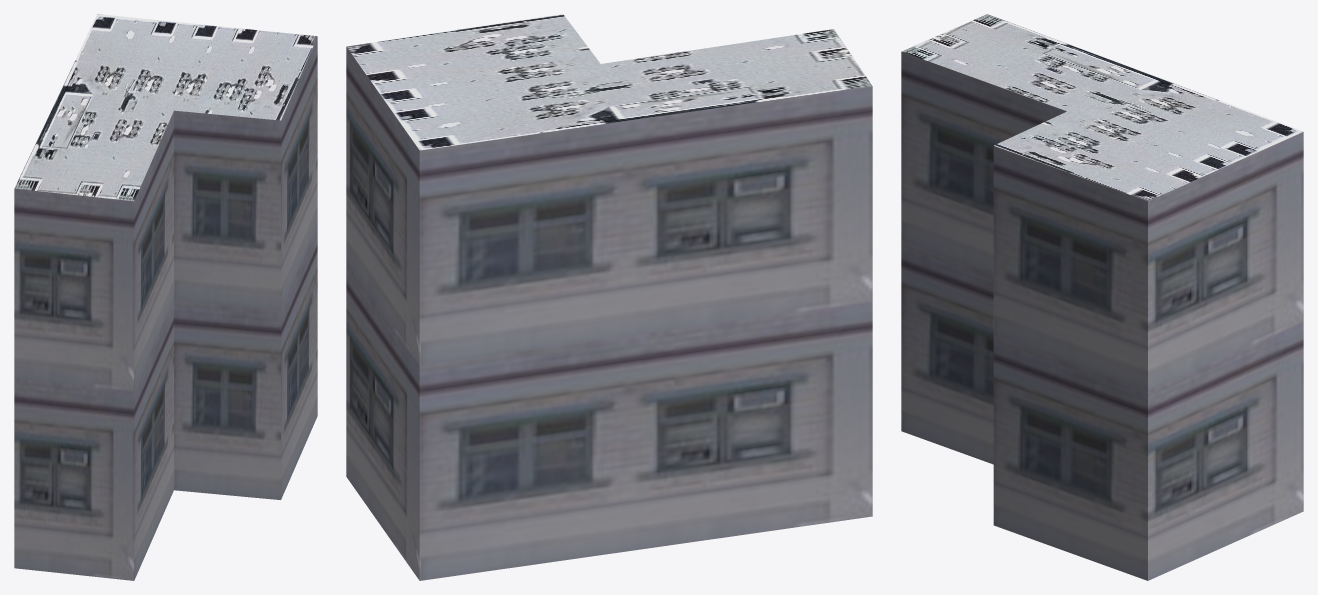
The model's file is ResTex__480.fbx.
3 views of the same model, side by side, from view 1: azimuth 30°, elevation 25°; view 2: azimuth 150°, elevation 25°; view 3: azimuth 270°, elevation 25° (orthographic). The views are drawn at different scales.
Parts seen in each view (by area): view 1: CityEngineMaterial_1_m, CityEngineMaterial_8_m; view 2: CityEngineMaterial_1_m, CityEngineMaterial_8_m; view 3: CityEngineMaterial_1_m, CityEngineMaterial_8_m.
Boxes of the visible parts, bbox=[...] form: CityEngineMaterial_1_m: bbox=[14, 37, 317, 580]; CityEngineMaterial_8_m: bbox=[14, 14, 317, 201]; CityEngineMaterial_1_m: bbox=[346, 47, 872, 580]; CityEngineMaterial_8_m: bbox=[346, 14, 871, 150]; CityEngineMaterial_1_m: bbox=[901, 51, 1303, 580]; CityEngineMaterial_8_m: bbox=[901, 14, 1303, 200].
Bounding box in the file's own units: 6.35 × 6 × 5.76.
2 materials, 2 textured.
